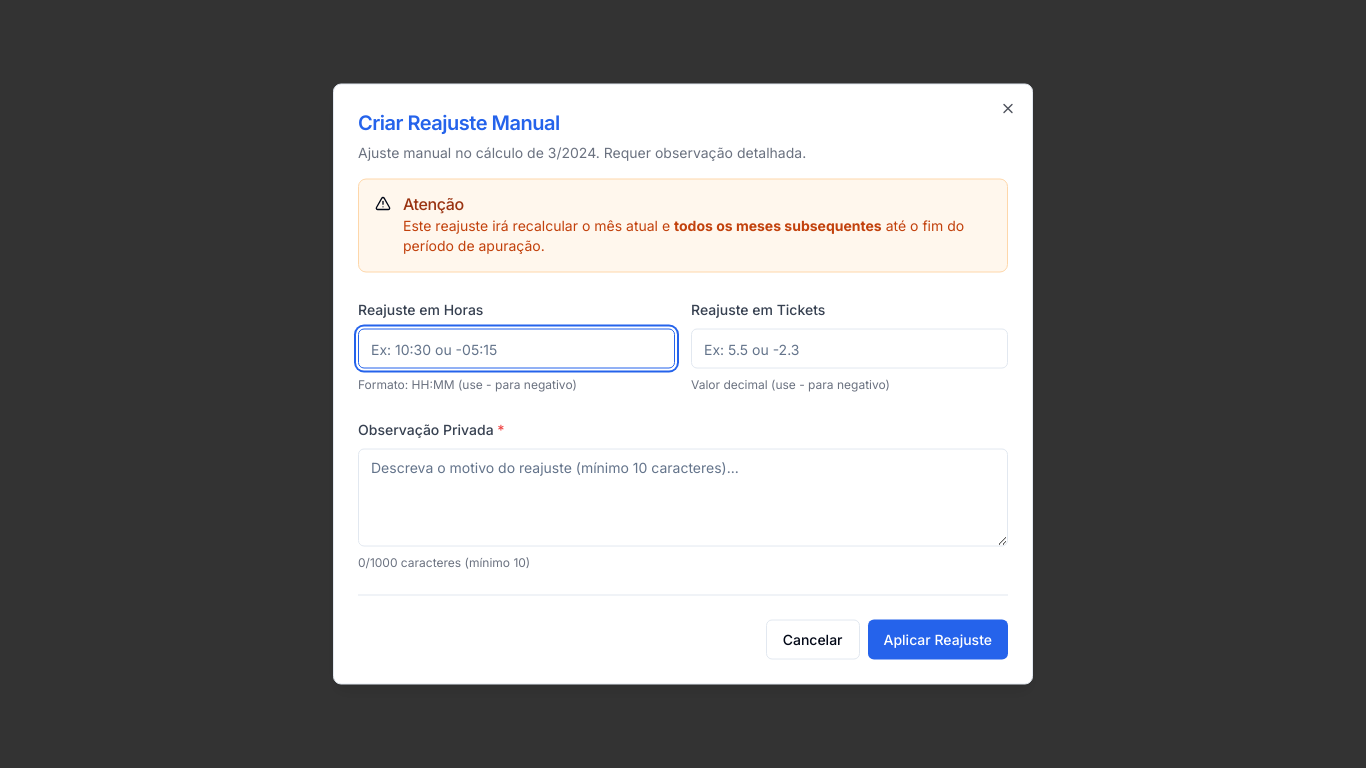
it: ModalReajuste › deve exigir pelo menos um valor (horas ou tickets)
In the text box with placeholder "Descreva o motivo do reajuste (mínimo 10 caracteres)...": (683, 498) [358, 448, 1008, 546], type "Observação válida com mais de 10 caracteres"
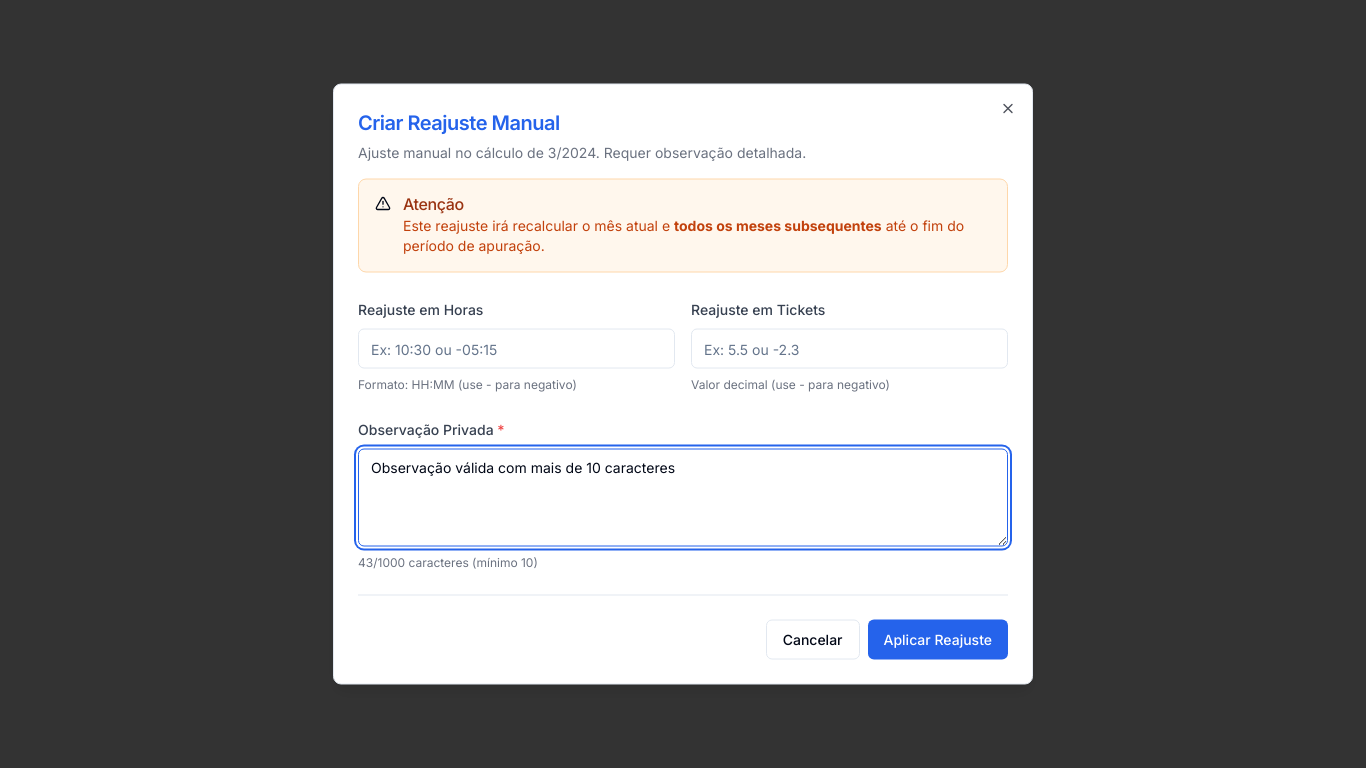
Click the button "Aplicar Reajuste": (938, 640) [868, 620, 1008, 660]
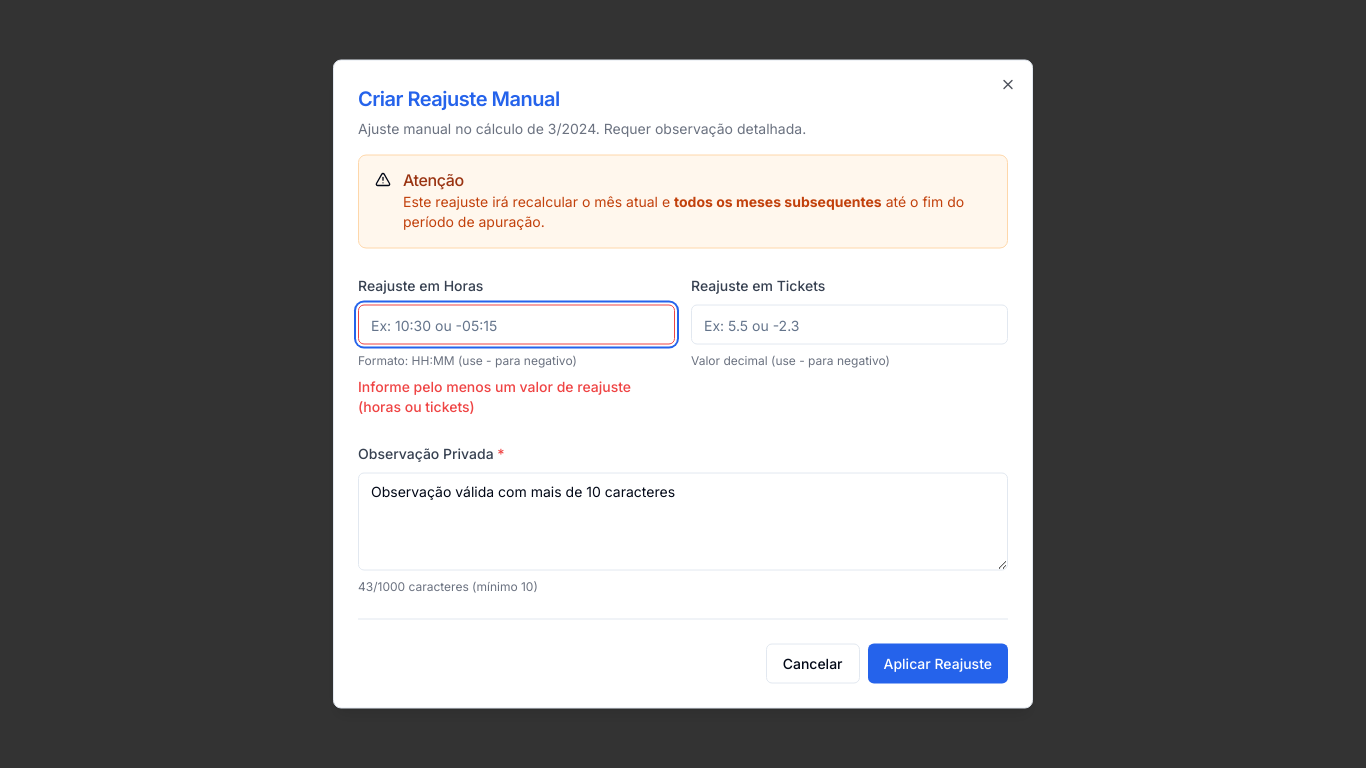
Expected: the text "Informe pelo menos um valor de reajuste (horas ou tickets)" is shown, [358, 376, 675, 416]
